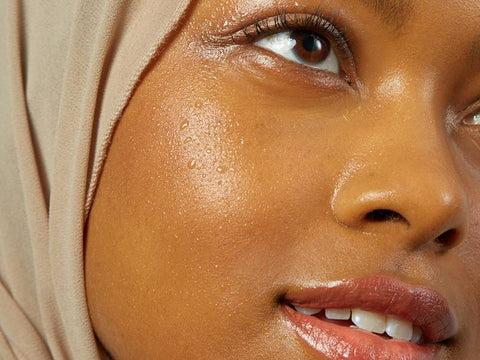Oily-Skin: (157, 61, 314, 268), (379, 61, 460, 229)
